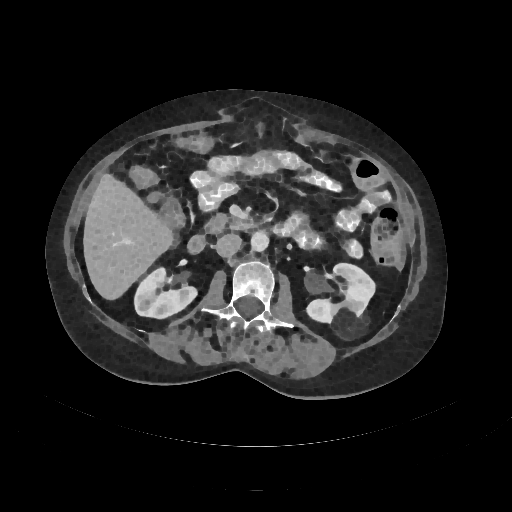Lesion: (327, 305, 375, 342)
